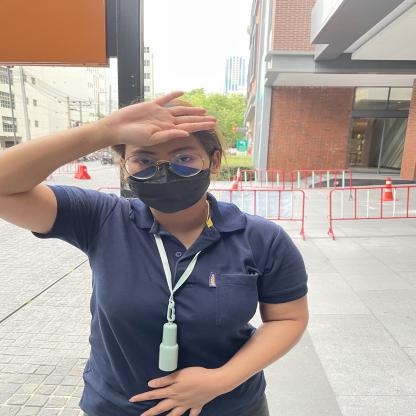Sick: (60, 72, 262, 160)
